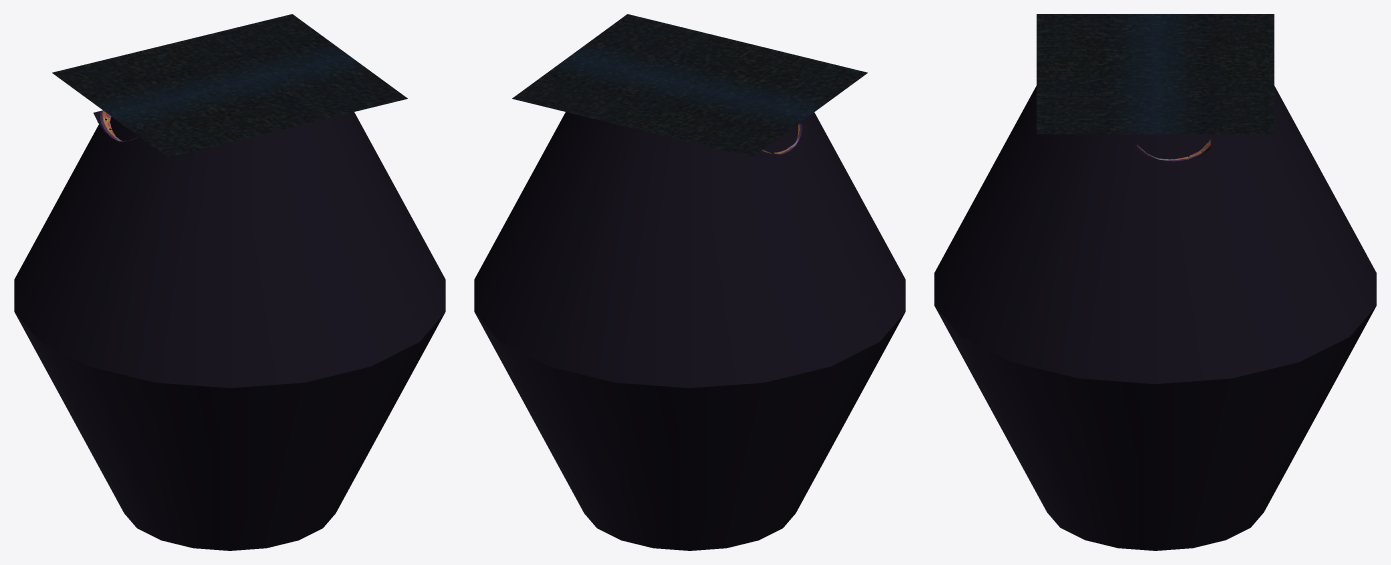
File: TutorialStage.obj
3 renders of one model, left to right at view 1: azimuth 30°, elevation 25°; view 2: azimuth 150°, elevation 25°; view 3: azimuth 270°, elevation 25°, orthographic. The views are drawn at different scales.
Parts seen in each view (by area): view 1: Dome, Sky; view 2: Dome, Sky; view 3: Dome, Sky.
Part boxes in pixels (left/top/right/bottom): Dome: left=14, top=112, right=445, bottom=550; Sky: left=52, top=14, right=407, bottom=157; Dome: left=474, top=112, right=905, bottom=550; Sky: left=512, top=14, right=867, bottom=157; Dome: left=934, top=86, right=1376, bottom=550; Sky: left=1036, top=14, right=1274, bottom=134.
Size of the model in its own units: 7.57 by 8 by 7.45.
Materials: 5 (3 with a texture image).
